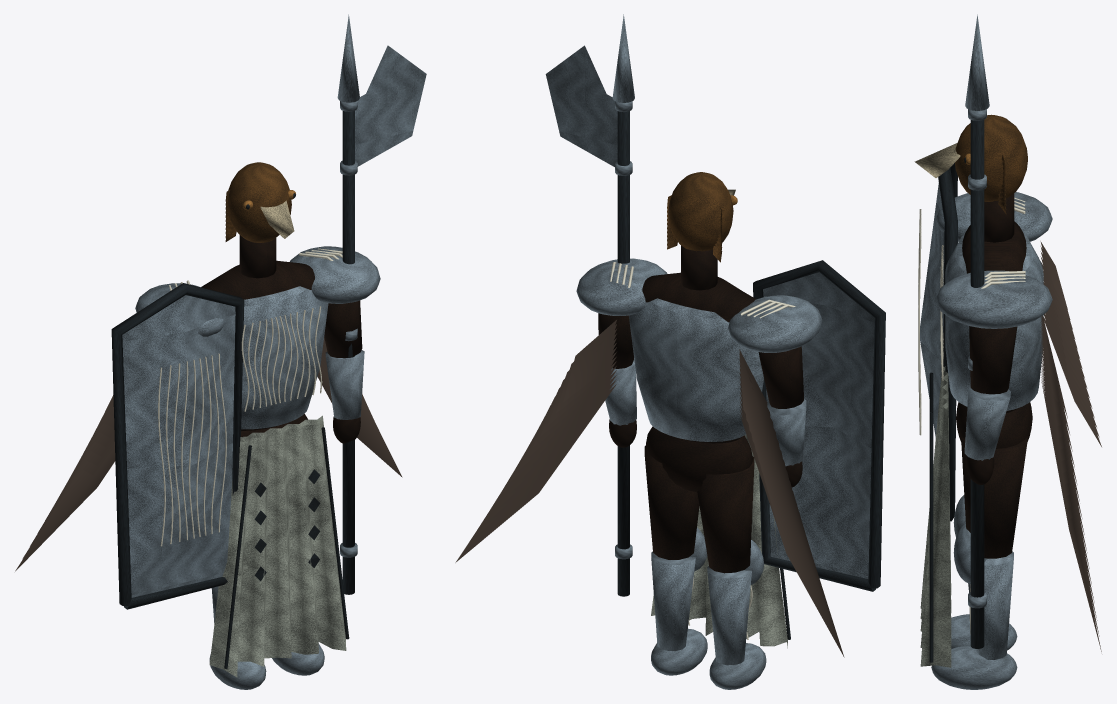
Rendered from guardian.glb.
3 views of the same model, side by side, from view 1: azimuth 30°, elevation 25°; view 2: azimuth 150°, elevation 25°; view 3: azimuth 270°, elevation 25° (orthographic). The views are drawn at different scales.
Parts seen in each view (by area): view 1: Tall kite greatshield, Ivory long tabard, Silver breastplate, Shield dark rim, weaponHolder_Guardian_engraved_silver, body_Guardian_dark_wing_feathers, head_Guardian_golden_feathers, Halberd haft, shieldHolder_Silver_embroidery, Silver shoulder.001, body_Silver_embroidery.001, guardian_Dark_iron (+8 smaller); view 2: Tall kite greatshield, body_Guardian_dark_wing_feathers, Silver breastplate, weaponHolder_Guardian_engraved_silver, Shield dark rim, kneeL_Guardian_engraved_silver, kneeR_Guardian_engraved_silver, Thigh L.001, Ivory long tabard, head_Guardian_golden_feathers, Silver shoulder, Thigh R.001 (+10 smaller); view 3: body_Guardian_dark_wing_feathers, kneeR_Guardian_engraved_silver, Ivory long tabard, Silver breastplate, Silver shoulder.001, Halberd haft, Thigh R.001, head_Guardian_golden_feathers, Tall kite greatshield, Upper arm R.001, Shield dark rim, Forearm R.001 (+11 smaller).
Boxes of the visible parts, x1,y1,x2,y2 form: Tall kite greatshield: (122, 295, 235, 597); Ivory long tabard: (209, 415, 346, 677); Silver breastplate: (241, 286, 328, 429); Shield dark rim: (111, 283, 244, 609); weaponHolder_Guardian_engraved_silver: (337, 14, 426, 557); body_Guardian_dark_wing_feathers: (15, 337, 402, 571); head_Guardian_golden_feathers: (225, 162, 291, 242); Halberd haft: (342, 111, 354, 594); shieldHolder_Silver_embroidery: (158, 353, 226, 546); Silver shoulder.001: (290, 246, 380, 303); body_Silver_embroidery.001: (169, 248, 342, 411); guardian_Dark_iron: (224, 427, 349, 668); Tall kite greatshield: (763, 272, 874, 578); body_Guardian_dark_wing_feathers: (455, 320, 844, 657); Silver breastplate: (628, 298, 763, 441); weaponHolder_Guardian_engraved_silver: (545, 14, 634, 559); Shield dark rim: (753, 260, 885, 591); kneeL_Guardian_engraved_silver: (707, 540, 766, 689); kneeR_Guardian_engraved_silver: (651, 527, 707, 675); Thigh L.001: (697, 456, 754, 573); Ivory long tabard: (651, 434, 787, 648); head_Guardian_golden_feathers: (667, 172, 733, 262); Silver shoulder: (728, 295, 822, 352); Thigh R.001: (644, 445, 699, 559); body_Guardian_dark_wing_feathers: (1040, 241, 1101, 651); kneeR_Guardian_engraved_silver: (931, 523, 1017, 689); Ivory long tabard: (920, 366, 951, 667); Silver breastplate: (945, 233, 1043, 410); Silver shoulder.001: (936, 270, 1052, 328); Halberd haft: (970, 120, 984, 648); Thigh R.001: (961, 435, 1027, 558); head_Guardian_golden_feathers: (955, 114, 1027, 214); Tall kite greatshield: (920, 182, 944, 437); Upper arm R.001: (969, 326, 1017, 394); Shield dark rim: (938, 163, 957, 521); Forearm R.001: (964, 384, 1010, 460).
Bounding box in the file's own units: 1.6 × 2.52 × 0.612.
9 materials, 7 textured.
